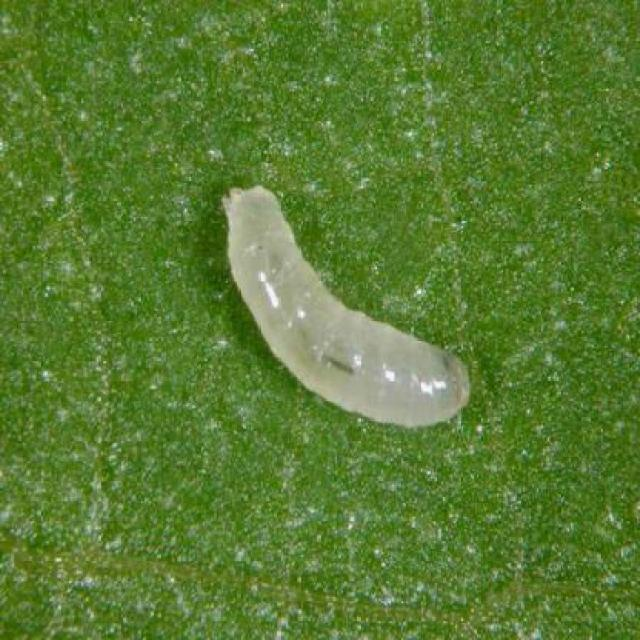whorl-maggot: (215, 178, 479, 432)
